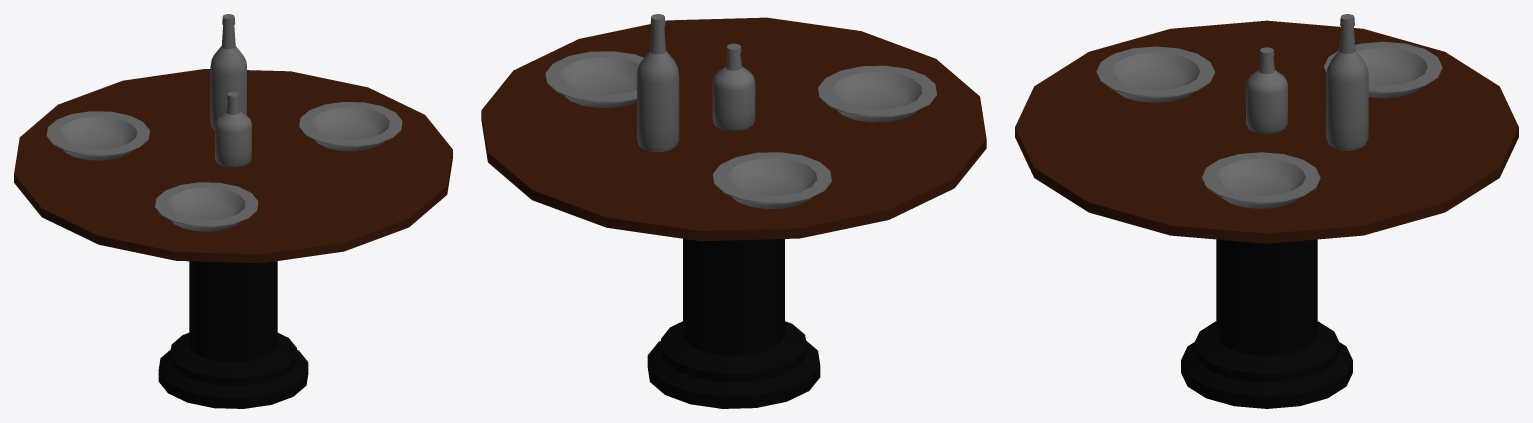
Rendered from smalltable.fbx.
The picture shows the model from 3 angles, left to right: view 1: azimuth 30°, elevation 25°; view 2: azimuth 150°, elevation 25°; view 3: azimuth 270°, elevation 25°; orthographic projection. The views are drawn at different scales.
Parts seen in each view (by area): view 1: Cylinder; view 2: Cylinder; view 3: Cylinder.
Part boxes in pixels (x1,y1,x2,y2): Cylinder: (14, 14, 452, 408); Cylinder: (481, 14, 986, 408); Cylinder: (1015, 14, 1518, 408).
Bounding box in the file's own units: 250 × 204 × 250.
